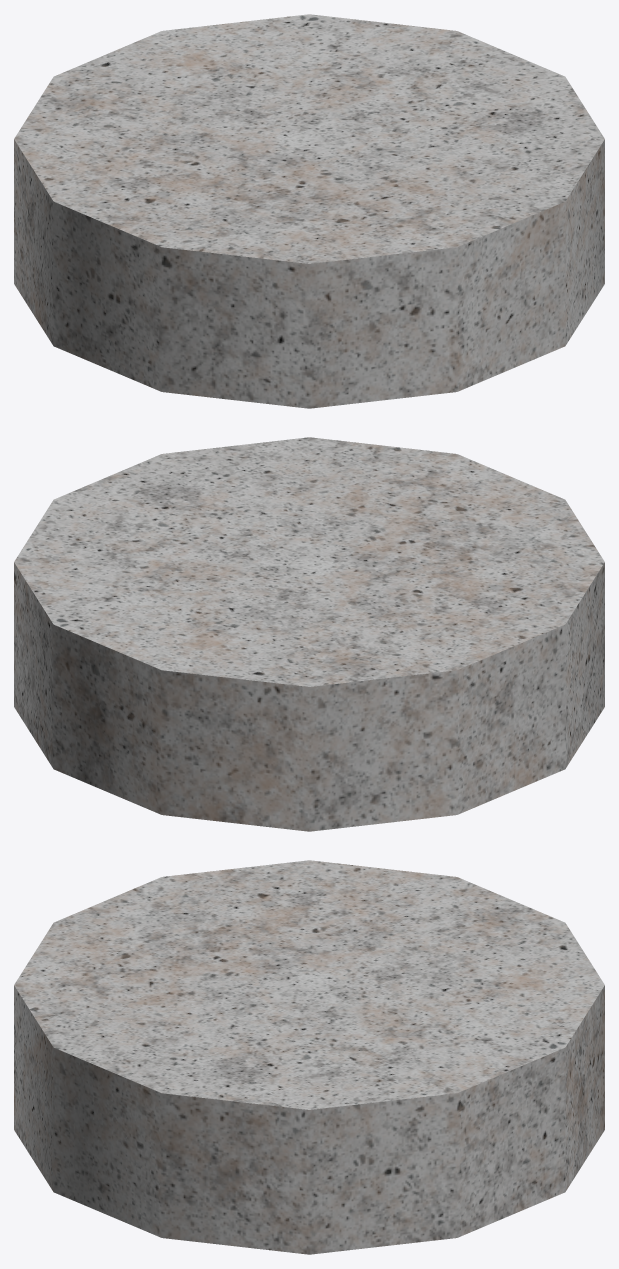
Rendered from SM_FoundationStone01E.fbx.
3 renders of one model, top to bottom at view 1: azimuth 30°, elevation 25°; view 2: azimuth 150°, elevation 25°; view 3: azimuth 270°, elevation 25°, orthographic.
Parts seen in each view (by area): view 1: SM_FoundationStone01E; view 2: SM_FoundationStone01E; view 3: SM_FoundationStone01E.
Part boxes in pixels (x1,y1,x2,y2): SM_FoundationStone01E: (14, 14, 604, 408); SM_FoundationStone01E: (14, 437, 604, 831); SM_FoundationStone01E: (14, 860, 604, 1254).
Size of the model in its own units: 73.66 by 73.66 by 19.91.
